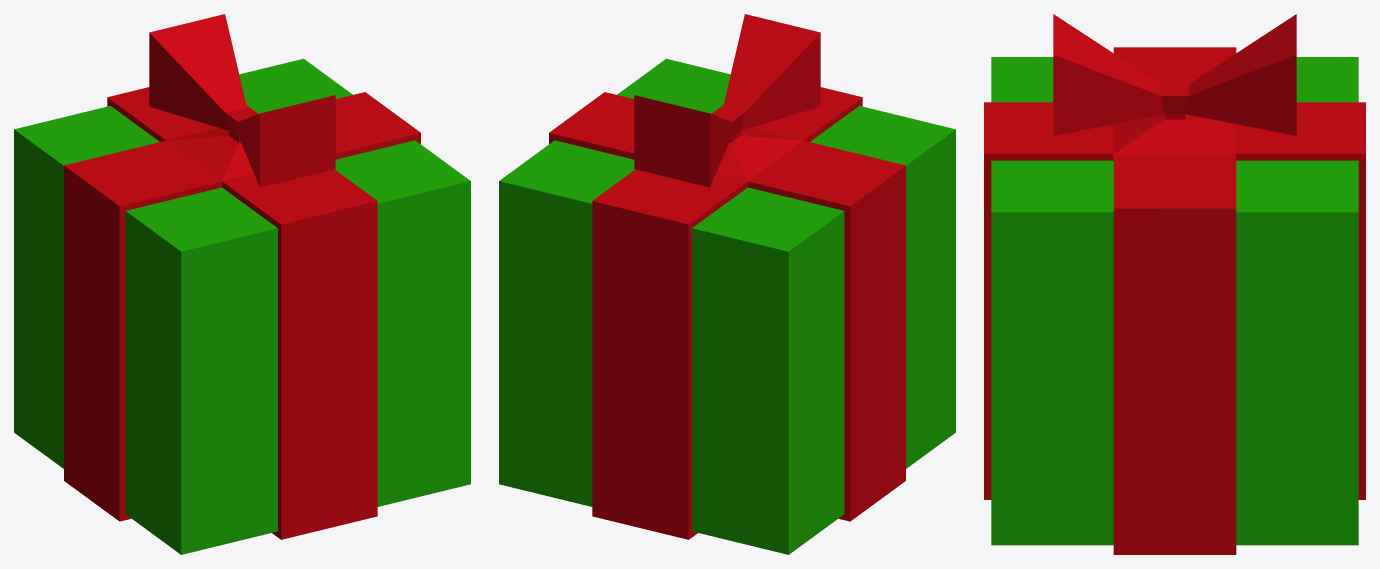
File: present.fbx
The picture shows the model from 3 angles, left to right: view 1: azimuth 30°, elevation 25°; view 2: azimuth 150°, elevation 25°; view 3: azimuth 270°, elevation 25°; orthographic projection. The views are drawn at different scales.
Visible parts, largest first — view 1: Cube; view 2: Cube; view 3: Cube.
Part boxes in pixels (x1=…): Cube: x1=14, y1=14, x2=470, y2=554; Cube: x1=499, y1=14, x2=955, y2=554; Cube: x1=984, y1=14, x2=1365, y2=554.
Bounding box in the file's own units: 208 × 264 × 208.
1 material, 1 textured.
